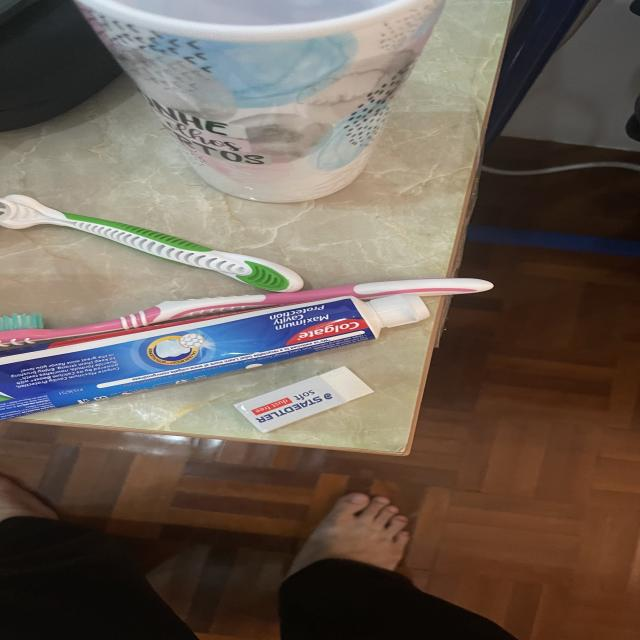eraser: (234, 367, 374, 433)
